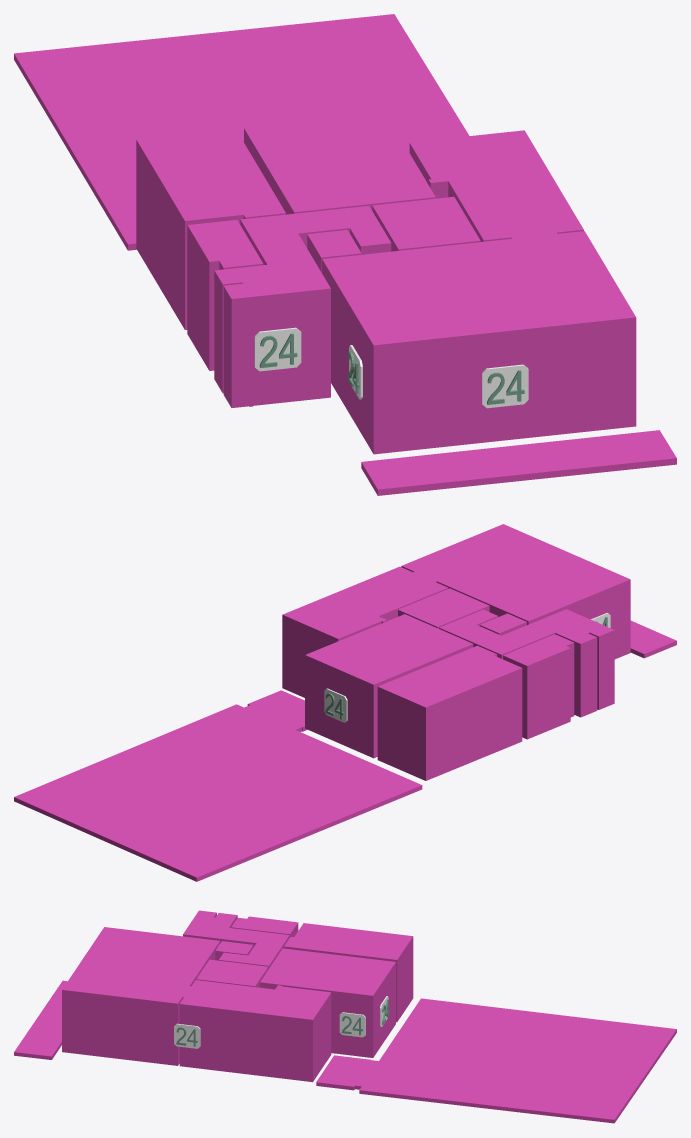
The picture shows the model from 3 angles, top to bottom: view 1: azimuth 30°, elevation 25°; view 2: azimuth 150°, elevation 25°; view 3: azimuth 270°, elevation 25°; orthographic projection. The views are drawn at different scales.
Parts seen in each view (by area): view 1: g_7, g_8, g_5, g_0, g_1, g_2, g_9, g_6, g_3, g_21, g_24, g_4; view 2: g_8, g_0, g_7, g_1, g_2, g_5, g_6, g_3, g_9, g_4; view 3: g_8, g_7, g_2, g_1, g_0, g_5, g_9, g_3, g_6, g_15, g_27, g_4.
Boxes of the visible parts, box(x1,y1,x2,y2) form: g_7: box(322, 231, 636, 454); g_8: box(14, 14, 469, 250); g_5: box(214, 205, 391, 407); g_0: box(136, 128, 285, 329); g_1: box(244, 112, 435, 214); g_2: box(409, 130, 583, 241); g_9: box(361, 430, 676, 495); g_6: box(187, 220, 263, 370); g_3: box(372, 196, 480, 251); g_21: box(482, 364, 528, 408); g_24: box(254, 327, 301, 371); g_4: box(307, 230, 361, 272); g_8: box(14, 690, 422, 881); g_0: box(377, 645, 522, 780); g_7: box(401, 524, 630, 659); g_1: box(305, 614, 473, 758); g_2: box(282, 566, 448, 697); g_5: box(439, 609, 614, 717); g_6: box(503, 634, 574, 739); g_3: box(398, 588, 489, 628); g_9: box(630, 620, 676, 658); g_4: box(479, 613, 526, 635); g_8: box(316, 998, 676, 1123); g_7: box(62, 927, 219, 1065); g_2: box(179, 980, 331, 1082); g_1: box(260, 948, 395, 1057); g_0: box(284, 923, 413, 1022); g_5: box(183, 910, 289, 968); g_9: box(14, 980, 67, 1059); g_3: box(196, 959, 268, 987); g_6: box(231, 916, 298, 937); g_15: box(174, 1023, 200, 1048); g_27: box(339, 1012, 365, 1037); g_4: box(215, 941, 253, 960).
Bounding box in the file's own units: 13.01 × 2.74 × 24.84.
